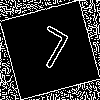L: (25, 25, 72, 78)
